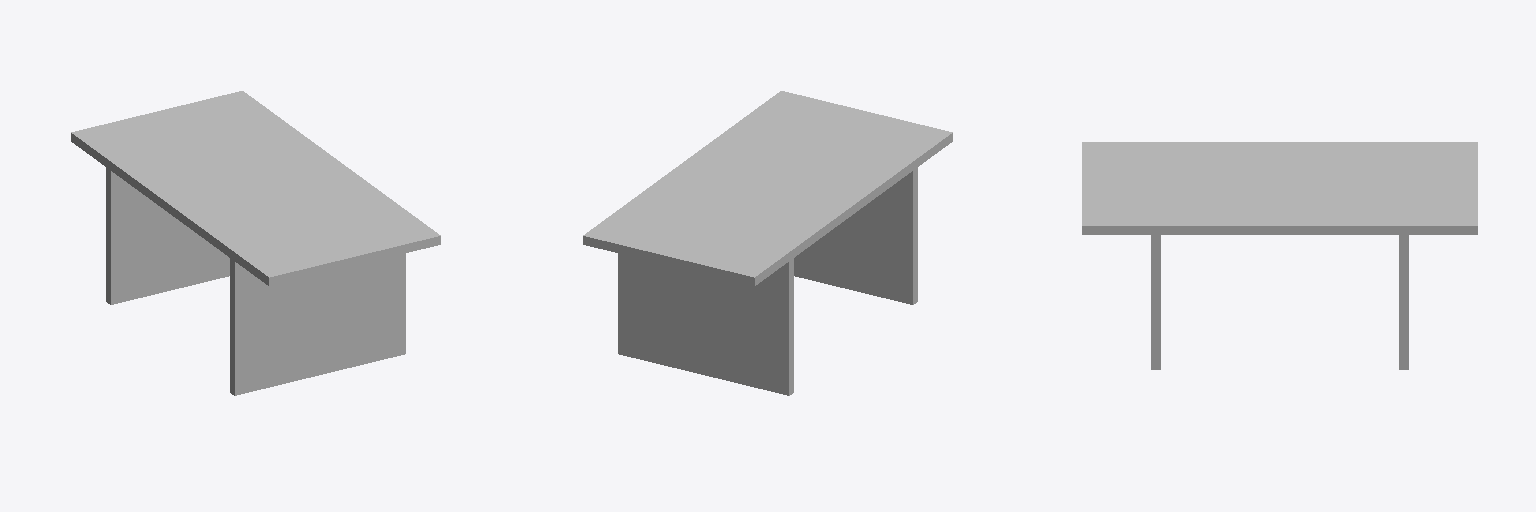
The model's file is table.obj.
3 views of the same model, side by side, from view 1: azimuth 30°, elevation 25°; view 2: azimuth 150°, elevation 25°; view 3: azimuth 270°, elevation 25° (orthographic).
Visible parts, largest first — view 1: Cube.002, Cube, Cube.001; view 2: Cube.002, Cube.001, Cube; view 3: Cube.002, Cube, Cube.001.
Boxes of the visible parts, x1,y1,x2,y2 form: Cube.002: [71, 91, 440, 286]; Cube: [230, 207, 405, 395]; Cube.001: [106, 116, 281, 304]; Cube.002: [583, 91, 952, 286]; Cube.001: [618, 207, 793, 395]; Cube: [743, 116, 917, 304]; Cube.002: [1082, 142, 1477, 234]; Cube: [1151, 142, 1160, 369]; Cube.001: [1399, 142, 1408, 369].
Bounding box in the file's own units: 2 × 1.6 × 4.